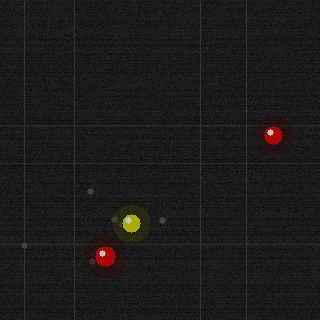red_fault: (93, 244, 117, 268), (262, 124, 284, 146)
yellow_warning: (120, 212, 142, 234)
